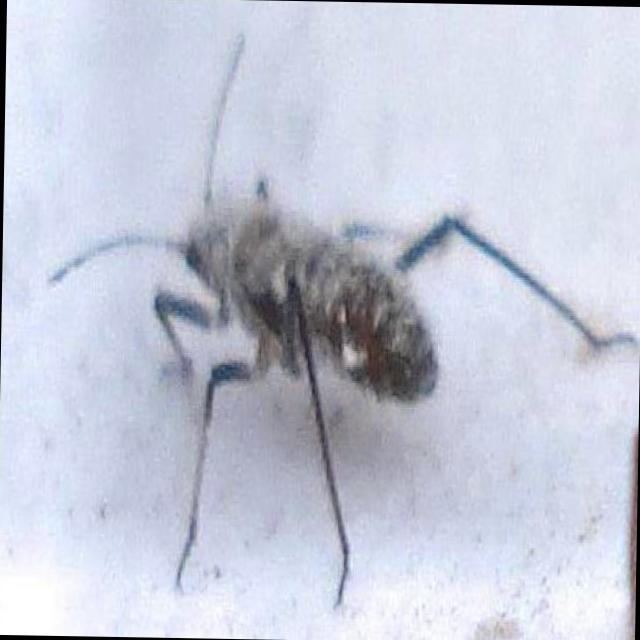aphid: (127, 143, 454, 498)
